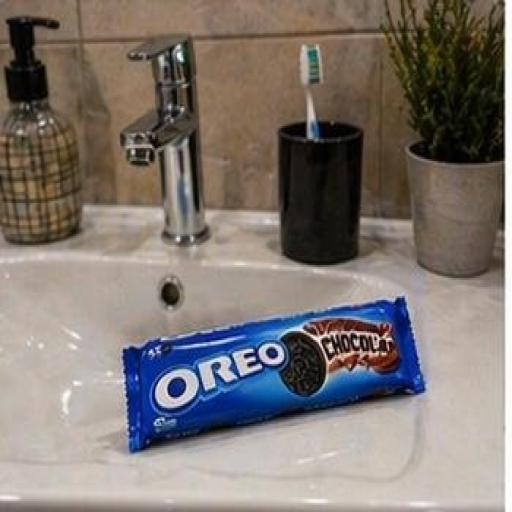oreo: (102, 255, 446, 463)
